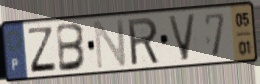7: (203, 12, 227, 60)
B: (55, 22, 88, 74)
N: (92, 17, 129, 71)
R: (126, 15, 161, 68)
V: (166, 12, 199, 64)
Z: (26, 26, 58, 75)
